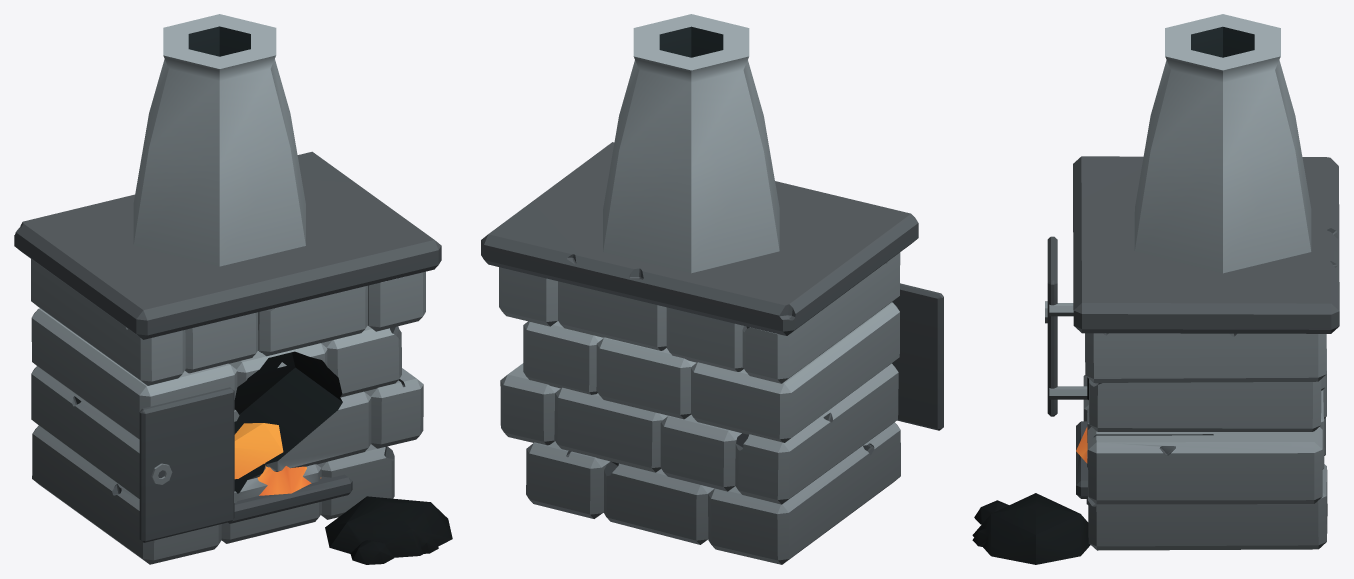
Rendered from furnace.glb.
3 views of the same model, side by side, from view 1: azimuth 30°, elevation 25°; view 2: azimuth 150°, elevation 25°; view 3: azimuth 270°, elevation 25° (orthographic). The views are drawn at different scales.
Visible parts, largest first — view 1: furnace; view 2: furnace; view 3: furnace.
Boxes of the visible parts, left/top/right/bottom form: furnace: left=14, top=14, right=452, bottom=564; furnace: left=481, top=14, right=943, bottom=564; furnace: left=972, top=14, right=1339, bottom=564.
Bounding box in the file's own units: 2.23 × 3.01 × 2.2.
2 materials, 2 textured.
